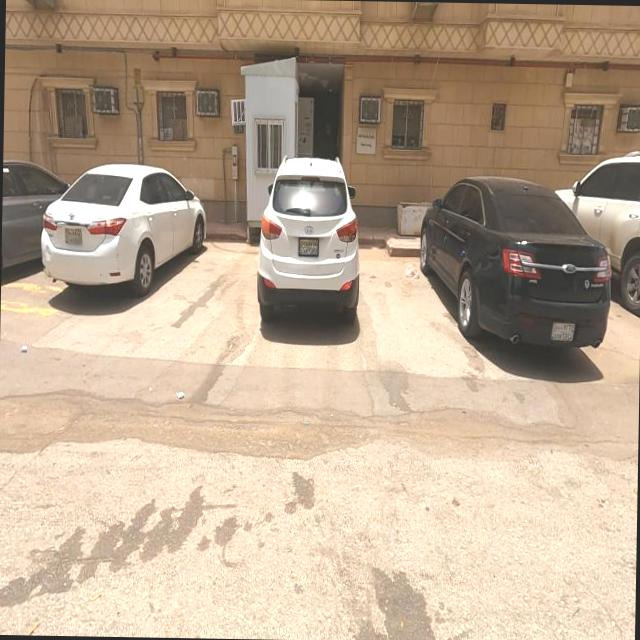debris: (382, 222, 450, 324), (148, 360, 214, 446), (5, 312, 47, 389)
